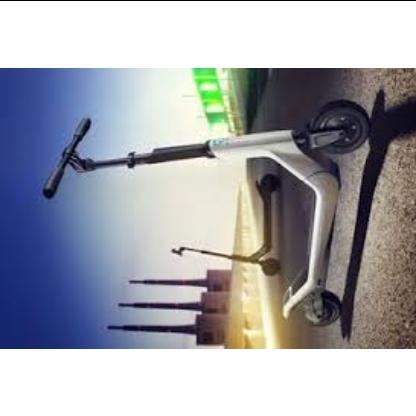bike: (30, 86, 416, 349)
